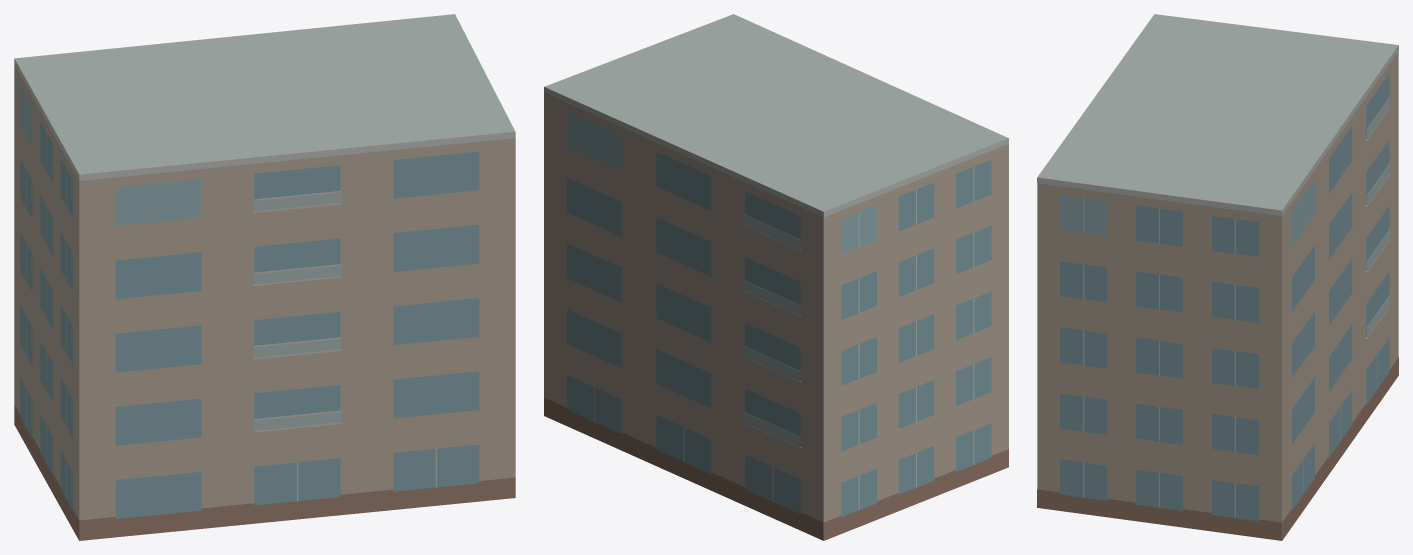
The model's file is survey-upis-32873551.glb.
The picture shows the model from 3 angles, left to right: view 1: azimuth 30°, elevation 25°; view 2: azimuth 150°, elevation 25°; view 3: azimuth 270°, elevation 25°; orthographic projection. The views are drawn at different scales.
Parts seen in each view (by area): view 1: survey-upis-32873551.tmp; view 2: survey-upis-32873551.tmp; view 3: survey-upis-32873551.tmp.
Boxes of the visible parts, x1,y1,x2,y2 form: survey-upis-32873551.tmp: (14, 14, 515, 540); survey-upis-32873551.tmp: (544, 14, 1008, 540); survey-upis-32873551.tmp: (1037, 14, 1398, 540).
Size of the model in its own units: 18 by 14.1 by 14.
